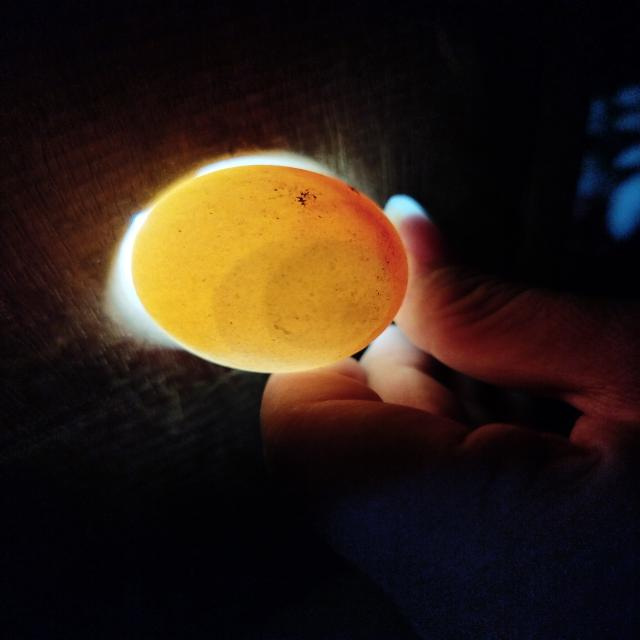Camara de Ar: (212, 239, 393, 363)
